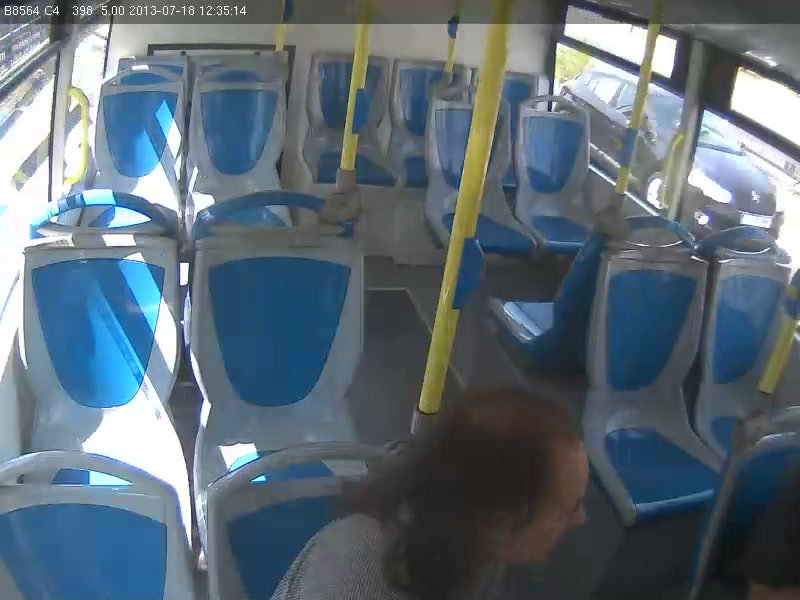Head: (437, 381, 607, 576)
